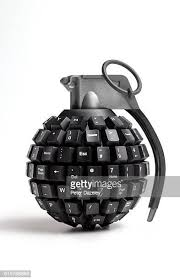bomb: (25, 57, 166, 230)
